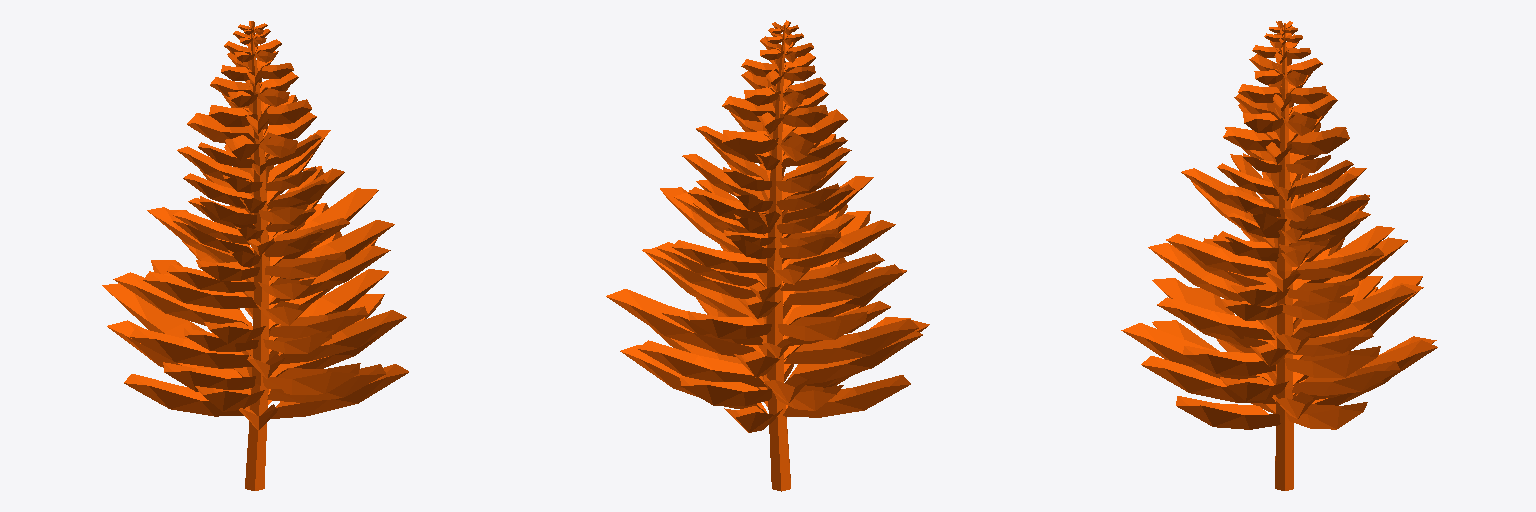
URDF robot description (Plant_4081a12643033c4b161f36d4e309050):
<?xml version="1.0" ?>
<robot name="Plant_4081a12643033c4b161f36d4e309050">
   <material name="obj_color">
      <color rgba="1.0 0.423529411765 0.0392156862745 1.0"/>
   </material>
   <link name="top">
      <inertial>
         <origin rpy="0.000136787386046232 0.0002118498681083527 0.0002165496831540872" xyz="-5.251358479223968e-05 0.0005118607879096598 -0.005132895903652668"/>
         <mass value="0.263578655807392"/>
         <inertia ixx="0.0002118354249091784" ixy="-1.216859745517159e-07" ixz="-1.164220792573011e-06" iyy="0.0002165421603685631" iyz="5.599871885415205e-07" izz="0.0001368093520309303"/>
      </inertial>
      <visual>
         <origin rpy="0 0 0" xyz="0 0 0"/>
         <geometry>
            <mesh filename="top_watertight_tiny.stl" scale="1 1 1"/>
         </geometry>
         <material name="obj_color"/>
      </visual>
      <collision>
         <origin rpy="0 0 0" xyz="0 0 0"/>
         <geometry>
            <mesh filename="top_watertight_tiny.obj" scale="1 1 1"/>
         </geometry>
      </collision>
   </link>
   <link name="bottom">
      <inertial>
         <origin rpy="1.633333333199431e-08 1.633333333199431e-08 1.633333333362855e-08" xyz="0.3464080000000008 0.3464080000000008 0.3464080000000008"/>
         <mass value="0.0009800000000000017"/>
         <inertia ixx="1.633333333253906e-08" ixy="5.447480642029219e-19" ixz="5.447480642029219e-19" iyy="1.633333333253906e-08" iyz="5.447480642029219e-19" izz="1.633333333253906e-08"/>
      </inertial>
      <visual>
         <origin rpy="0 0 0" xyz="0 0 0"/>
         <geometry>
            <mesh filename="bottom_watertight_tiny.stl" scale="1 1 1"/>
         </geometry>
         <material name="obj_color"/>
      </visual>
   </link>
   <link name="world"/>
   <joint name="world_to_base" type="fixed">
      <origin xyz="0 0 0"/>
      <axis xyz="0 0 0"/>
      <parent link="world"/>
      <child link="bottom"/>
   </joint>
   <joint name="rotation" type="revolute">
      <origin xyz="0 0 0"/>
      <axis xyz="0 0 -1"/>
      <parent link="bottom"/>
      <child link="top"/>
      <dynamics damping="1.0" friction="1.0"/>
      <limit effort="0.1" velocity="0.1" lower="0" upper="0.001"/>
   </joint>
</robot>

--- Render facts (derived) ---
Views: 3 orthographic renders of the robot side by side, from view 1: azimuth 30°, elevation 25°; view 2: azimuth 150°, elevation 25°; view 3: azimuth 270°, elevation 25°.
Model Plant_4081a12643033c4b161f36d4e309050 with 3 links and 2 joints (1 revolute, 1 fixed), rooted at world, posed every joint at zero.
Links seen in each view (by area): view 1: top; view 2: top; view 3: top.
Link boxes in pixels (x1,y1,x2,y2): top: (102, 21, 408, 490); top: (606, 20, 929, 491); top: (1121, 21, 1437, 490).
Bounding box of the posed robot: 0.0798 × 0.0807 × 0.1295 m (x, y, z).
1 mesh visuals loaded from 2 distinct referenced files (1 binary STL); not drawn: 1 (reference not matched to a file when rendering).
